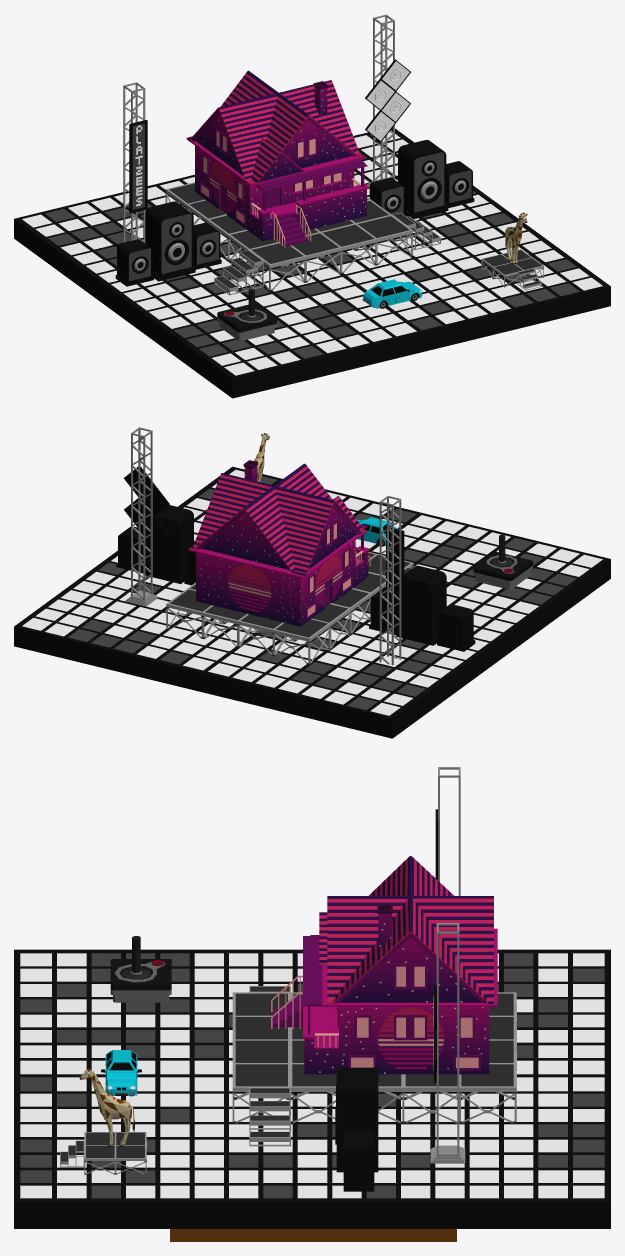
3 views of the same model, one above another, from view 1: azimuth 30°, elevation 25°; view 2: azimuth 150°, elevation 25°; view 3: azimuth 270°, elevation 25° (orthographic). The views are drawn at different scales.
Parts seen in each view (by area): view 1: Cube.008, Cube.156, OBJRANDOM_JOYSTICK, VEHICLES_CAR, ANIMAL_JIRAFA; view 2: Cube.008, Cube.156, OBJRANDOM_JOYSTICK, VEHICLES_CAR; view 3: Cube.008, Cube.156, UNDERGROUND_ART_PIECE_VAN_GOGH, OBJRANDOM_JOYSTICK, VEHICLES_CAR, ANIMAL_JIRAFA.
Part boxes in pixels (x1,y1,x2,y2): Cube.008: [14, 14, 610, 398]; Cube.156: [186, 70, 369, 247]; OBJRANDOM_JOYSTICK: [217, 289, 276, 341]; VEHICLES_CAR: [362, 279, 422, 308]; ANIMAL_JIRAFA: [505, 212, 527, 263]; Cube.008: [14, 427, 610, 738]; Cube.156: [188, 460, 370, 626]; OBJRANDOM_JOYSTICK: [473, 534, 532, 589]; VEHICLES_CAR: [357, 517, 398, 546]; Cube.008: [14, 767, 610, 1228]; Cube.156: [271, 856, 497, 1074]; UNDERGROUND_ART_PIECE_VAN_GOGH: [170, 1229, 456, 1241]; OBJRANDOM_JOYSTICK: [110, 936, 171, 1002]; VEHICLES_CAR: [101, 1050, 141, 1096]; ANIMAL_JIRAFA: [79, 1067, 134, 1146].
Bounding box in the file's own units: 4000 × 2098 × 4000.
45 materials, 4 textured.
